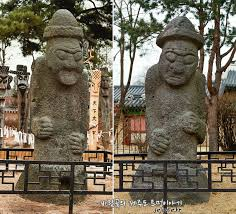Stone Statue: (128, 11, 216, 211), (20, 6, 96, 208)
